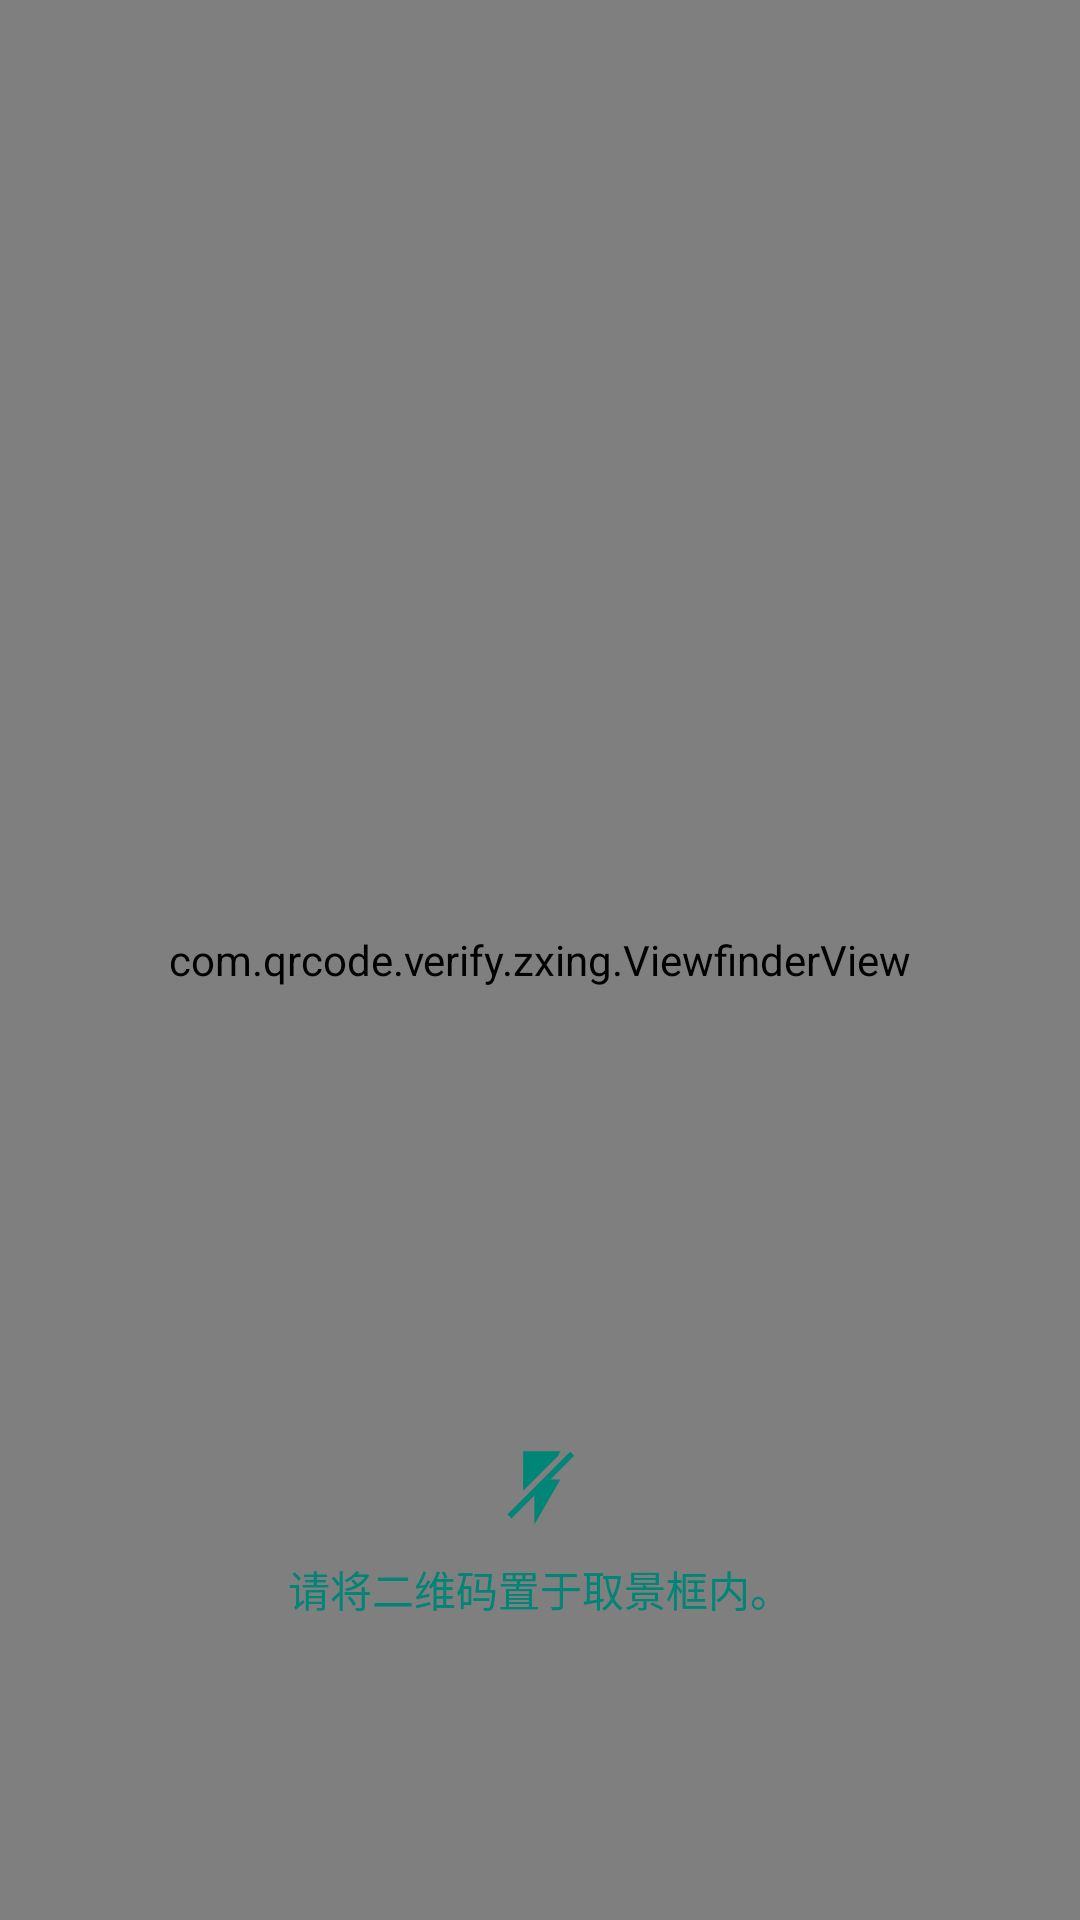

Where to tap for icons on this 1080x1920 app screen, as point (x, y):
shanguangdeng guanbi: point (540, 1487)
